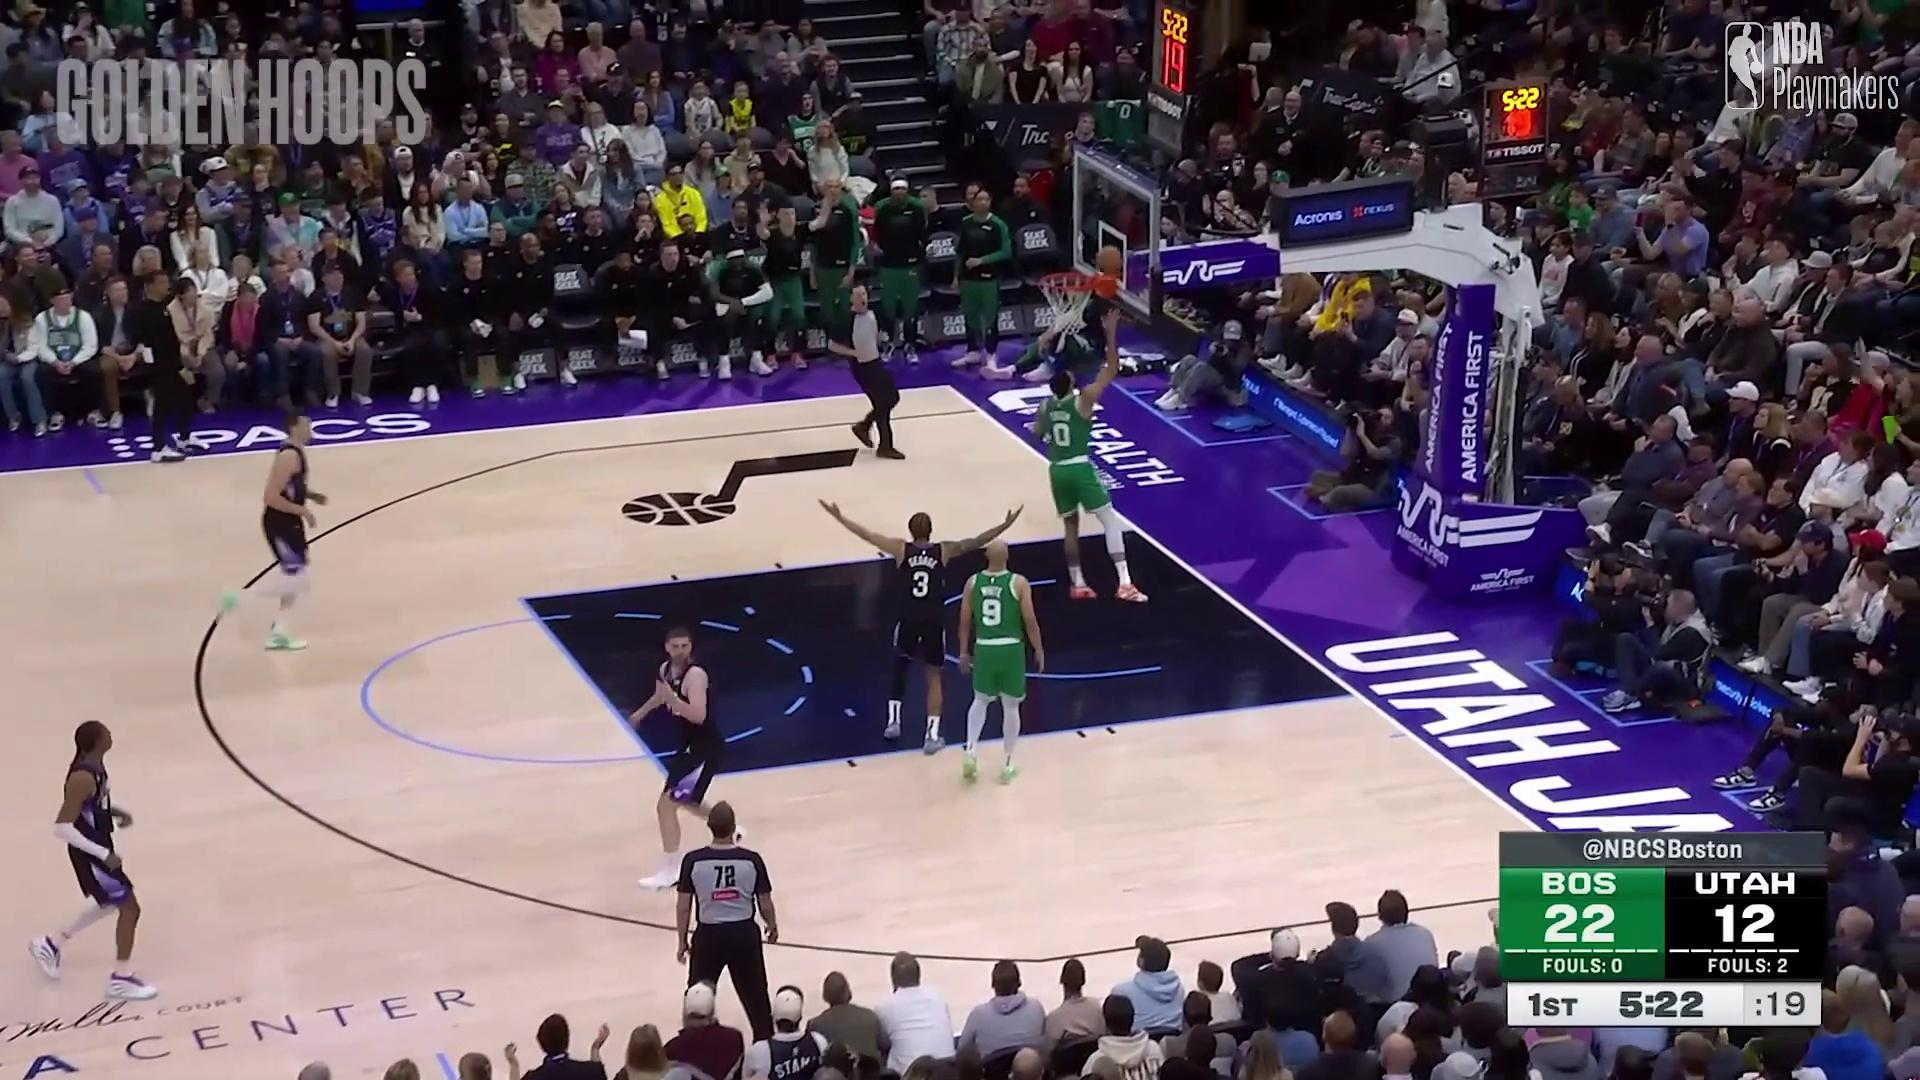ball: (1092, 247, 1124, 276)
hoop: (1033, 270, 1091, 330)
